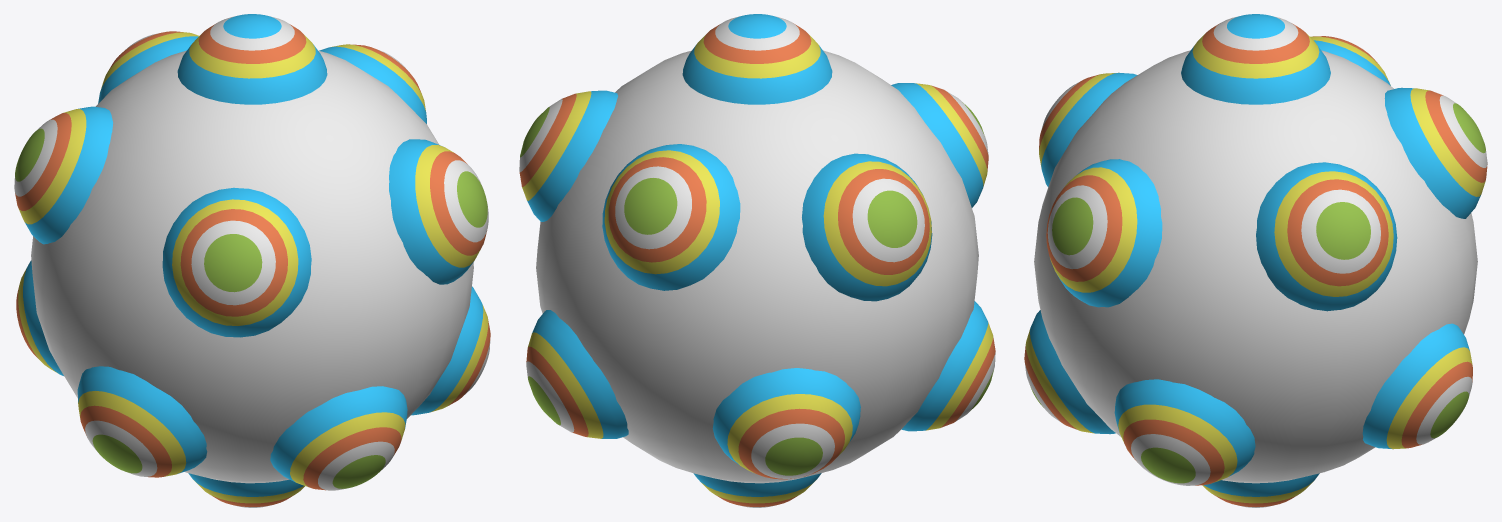
The model's file is katamari ball copia.fbx.
3 views of the same model, side by side, from view 1: azimuth 30°, elevation 25°; view 2: azimuth 150°, elevation 25°; view 3: azimuth 270°, elevation 25° (orthographic).
Visible parts, largest first — view 1: bola peque6.004; view 2: bola peque6.004; view 3: bola peque6.004.
Part boxes in pixels (x1,y1,x2,y2): bola peque6.004: (14, 14, 490, 507); bola peque6.004: (519, 14, 995, 507); bola peque6.004: (1024, 14, 1487, 507).
Size of the model in its own units: 346 by 405 by 354.
